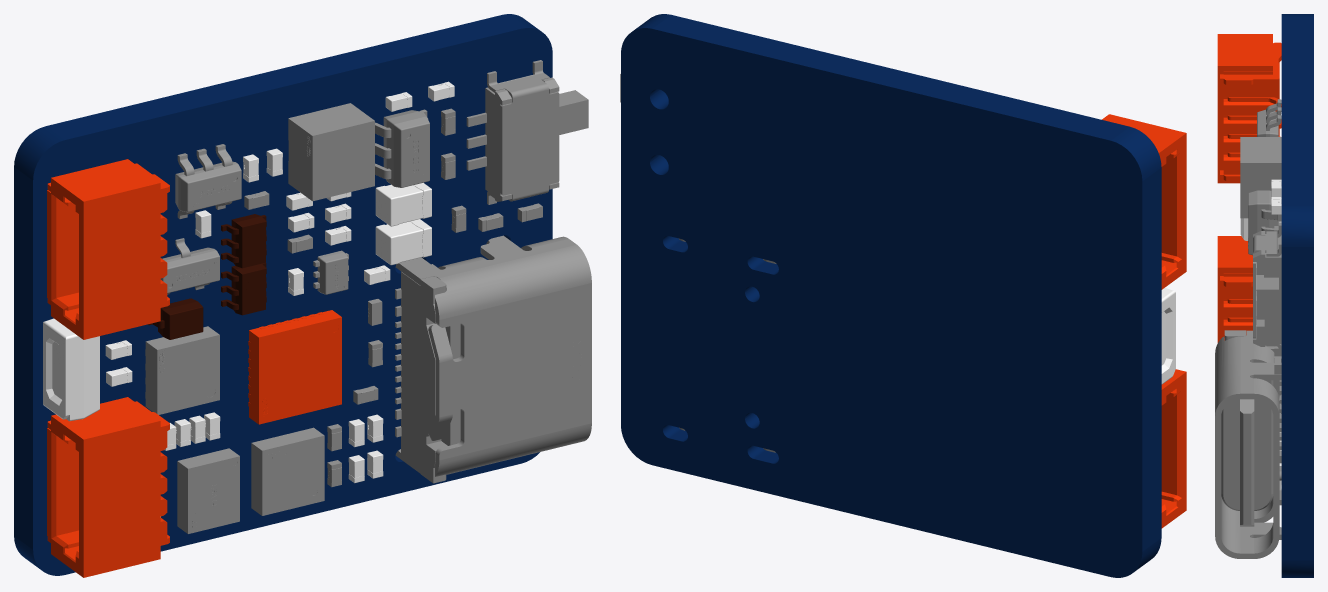
File: pcb.glb
3 views of the same model, side by side, from view 1: azimuth 30°, elevation 25°; view 2: azimuth 150°, elevation 25°; view 3: azimuth 270°, elevation 25° (orthographic). The views are drawn at different scales.
Visible parts, largest first — view 1: AT32 PCB; view 2: AT32 PCB; view 3: AT32 PCB.
Part boxes in pixels (x1,y1,x2,y2): AT32 PCB: (14, 14, 591, 577); AT32 PCB: (620, 14, 1186, 577); AT32 PCB: (1215, 14, 1313, 577).
Bounding box in the file's own units: 2.71 × 2.08 × 0.5047.
